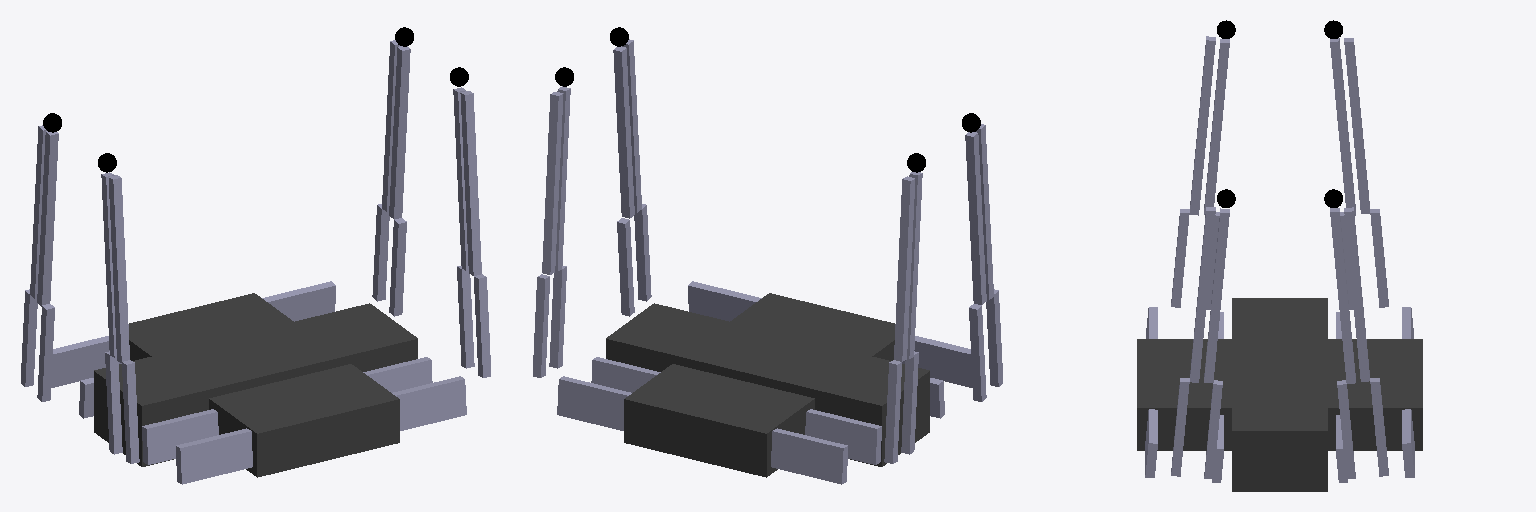
--- Render facts (derived) ---
Views: 3 orthographic renders of the robot side by side, from view 1: azimuth 30°, elevation 25°; view 2: azimuth 150°, elevation 25°; view 3: azimuth 270°, elevation 25°.
Model quadruped with 31 links and 30 joints (16 continuous, 14 fixed), rooted at base_chassis_link, posed all joints at 0.
Links seen in each view (by area): view 1: base_chassis_link, chassis_right, chassis_left, lower_leg_back_rightR_link, lower_leg_front_rightR_link, lower_leg_back_leftR_link, lower_leg_front_leftR_link, upper_leg_back_rightR_link, upper_leg_front_rightR_link, lower_leg_back_rightL_link, upper_leg_front_rightL_link, lower_leg_front_rightL_link (+7 smaller); view 2: base_chassis_link, chassis_left, chassis_right, lower_leg_back_leftL_link, lower_leg_front_leftL_link, lower_leg_back_rightL_link, lower_leg_front_rightL_link, upper_leg_back_leftL_link, lower_leg_back_leftR_link, upper_leg_front_leftL_link, lower_leg_front_leftR_link, lower_leg_back_rightR_link (+7 smaller); view 3: base_chassis_link, lower_leg_back_rightR_link, lower_leg_front_leftR_link, lower_leg_back_leftL_link, lower_leg_front_rightR_link, lower_leg_front_rightL_link, lower_leg_front_leftL_link, chassis_right, chassis_left, lower_leg_back_leftR_link, lower_leg_back_rightL_link, upper_leg_back_rightR_link (+5 smaller).
Link boxes in pixels (x1,y1,x2,y2): base_chassis_link: [94, 293, 417, 477]; chassis_right: [142, 357, 466, 484]; chassis_left: [51, 281, 335, 418]; lower_leg_back_rightR_link: [109, 175, 129, 362]; lower_leg_front_rightR_link: [460, 91, 481, 275]; lower_leg_back_leftR_link: [37, 131, 58, 306]; lower_leg_front_leftR_link: [389, 46, 410, 219]; upper_leg_back_rightR_link: [122, 360, 139, 463]; upper_leg_front_rightR_link: [474, 274, 490, 377]; lower_leg_back_rightL_link: [101, 172, 116, 357]; upper_leg_front_rightL_link: [457, 266, 474, 368]; lower_leg_front_rightL_link: [453, 87, 468, 270]; base_chassis_link: [606, 293, 929, 477]; chassis_left: [557, 357, 881, 484]; chassis_right: [688, 281, 972, 418]; lower_leg_back_leftL_link: [894, 176, 914, 361]; lower_leg_front_leftL_link: [542, 92, 563, 274]; lower_leg_back_rightL_link: [965, 132, 986, 304]; lower_leg_front_rightL_link: [613, 46, 634, 218]; upper_leg_back_leftL_link: [884, 360, 901, 463]; lower_leg_back_leftR_link: [907, 172, 922, 358]; upper_leg_front_leftL_link: [533, 274, 549, 377]; lower_leg_front_leftR_link: [555, 86, 570, 271]; lower_leg_back_rightR_link: [976, 124, 993, 299]; base_chassis_link: [1137, 298, 1422, 491]; lower_leg_back_rightR_link: [1190, 36, 1215, 215]; lower_leg_front_leftR_link: [1330, 208, 1355, 383]; lower_leg_back_leftL_link: [1344, 38, 1369, 213]; lower_leg_front_rightR_link: [1190, 207, 1215, 382]; lower_leg_front_rightL_link: [1204, 208, 1229, 382]; lower_leg_front_leftL_link: [1344, 207, 1369, 381]; chassis_right: [1145, 307, 1223, 482]; chassis_left: [1336, 307, 1414, 482]; lower_leg_back_leftR_link: [1330, 38, 1355, 215]; lower_leg_back_rightL_link: [1204, 39, 1229, 214]; upper_leg_back_rightR_link: [1171, 209, 1189, 307].
Bounding box of the posed robot: 0.44 × 0.3 × 0.3704 m (x, y, z).
Meshes: 1 distinct files referenced, 0 mesh visuals loaded (none loaded); not drawn: 8 (reference not matched to a file when rendering).

robot.urdf — quadruped:
<?xml version="0.0" ?>
<!-- ======================================================================= -->
<!--LICENSE:                                                                 -->
<!--Copyright (c) 2017, Erwin Coumans                                        -->
<!--Google Inc.                                                              -->
<!--All rights reserved.                                                     -->
<!--                                                                         -->
<!--Redistribution and use in source and binary forms, with or without       -->
<!--modification, are permitted provided that the following conditions are   -->
<!--met:                                                                     -->
<!--                                                                         -->
<!--1. Redistributions or derived work must retain this copyright notice,    -->
<!--   this list of conditions and the following disclaimer.                 -->
<!--                                                                         -->
<!--2. Redistributions in binary form must reproduce the above copyright     -->
<!--   notice, this list of conditions and the following disclaimer in the   -->
<!--   documentation and/or other materials provided with the distribution.  -->
<!--                                                                         -->
<!--THIS SOFTWARE IS PROVIDED BY THE COPYRIGHT HOLDERS AND CONTRIBUTORS "AS  -->
<!--IS" AND ANY EXPRESS OR IMPLIED WARRANTIES, INCLUDING, BUT NOT LIMITED TO,-->
<!--THE IMPLIED WARRANTIES OF MERCHANTABILITY AND FITNESS FOR A PARTICULAR   -->
<!--PURPOSE ARE DISCLAIMED. IN NO EVENT SHALL THE COPYRIGHT HOLDER OR        -->
<!--CONTRIBUTORS BE LIABLE FOR ANY DIRECT, INDIRECT, INCIDENTAL, SPECIAL,    -->
<!--EXEMPLARY, OR CONSEQUENTIAL DAMAGES (INCLUDING, BUT NOT LIMITED TO,      -->
<!--PROCUREMENT OF SUBSTITUTE GOODS OR SERVICES; LOSS OF USE, DATA, OR       -->
<!--PROFITS; OR BUSINESS INTERRUPTION) HOWEVER CAUSED AND ON ANY THEORY OF   -->
<!--LIABILITY, WHETHER IN CONTRACT, STRICT LIABILITY, OR TORT (INCLUDING     -->
<!--NEGLIGENCE OR OTHERWISE) ARISING IN ANY WAY OUT OF THE USE OF THIS       -->
<!--SOFTWARE, EVEN IF ADVISED OF THE POSSIBILITY OF SUCH DAMAGE.             -->

<robot name="quadruped">
  <link name="base_chassis_link">
    <visual>
      <geometry>
        <box size=".33 0.10 .07"/>
      </geometry>
      <material name="black">
        <color rgba="0.3 0.3 0.3 1"/>
      </material>
    </visual>
    <visual>
			<origin rpy="0 0 0" xyz="0 0.10 0"/>
      <geometry>
        <box size=".17 0.10 .05"/>
      </geometry>
      <material name="black">
        <color rgba="0.3 0.3 0.3 1"/>
      </material>
    </visual>
		<visual>
			<origin rpy="0 0 0" xyz="0 -0.10 0"/>
      <geometry>
        <box size=".17 0.10 .05"/>
      </geometry>
      <material name="black">
        <color rgba="0.3 0.3 0.3 1"/>
      </material>
    </visual>

    <collision>
      <geometry>
       <box size=".33 0.10 .07"/>
      </geometry>
    </collision>
    <collision>
			<origin rpy="0 0 0" xyz="0 0.10 0"/>
      <geometry>
       <box size=".17 0.10 .05"/>
      </geometry>
    </collision>
    <collision>
			<origin rpy="0 0 0" xyz="0 -0.10 0"/>
      <geometry>
       <box size=".17 0.10 .05"/>
      </geometry>
    </collision>

    <inertial>
      <mass value="3"/>
      <inertia ixx="1.0" ixy="0.0" ixz="0.0" iyy="1.0" iyz="0.0" izz="1.0"/>
    </inertial>
  </link>

  <link name="chassis_right">
    <visual>
			<origin rpy="0 0 0" xyz="0 0.035 0"/>
      <geometry>
       <box size=".34 0.01 .04"/>
      </geometry>
			<material name="grey">
        <color rgba="0.65 0.65 0.75 1"/>
      </material>    </visual>
    <visual>
			<origin rpy="0 0 0" xyz="0 -0.035 0"/>
      <geometry>
       <box size=".34 0.01 .04"/>
      </geometry>
			<material name="grey">
        <color rgba="0.65 0.65 0.75 1"/>
      </material>    </visual>
    <collision>
			<origin rpy="0 0 0" xyz="0 0.035 0"/>
      <geometry>
       <box size=".34 0.01 .04"/>
      </geometry>
    </collision>
    <collision>
			<origin rpy="0 0 0" xyz="0 -0.035 0"/>
      <geometry>
       <box size=".34 0.01 .04"/>
      </geometry>
    </collision>
    <inertial>
      <mass value=".1"/>
      <inertia ixx="1.0" ixy="0.0" ixz="0.0" iyy="1.0" iyz="0.0" izz="1.0"/>
    </inertial>
  </link>

  <joint name="chassis_right_center" type="fixed">
    <axis xyz="0 0 1"/>
    <parent link="base_chassis_link"/>
    <child link="chassis_right"/>
    <origin rpy="-0.0872665 0 0" xyz="0.0 -0.10 0.0"/>
    <limit effort="100" velocity="100"/>
    <joint_properties damping="0.0" friction="0.0"/>
  </joint>

  <link name="chassis_left">
    <visual>
			<origin rpy="0 0 0" xyz="0 0.035 0"/>
      <geometry>
       <box size=".34 0.01 .04"/>
      </geometry>
			<material name="grey">
        <color rgba="0.65 0.65 0.75 1"/>
      </material>    </visual>
    <visual>
			<origin rpy="0 0 0" xyz="0 -0.035 0"/>
      <geometry>
       <box size=".34 0.01 .04"/>
      </geometry>
			<material name="grey">
        <color rgba="0.65 0.65 0.75 1"/>
      </material>    </visual>
    <collision>
			<origin rpy="0 0 0" xyz="0 0.035 0"/>
      <geometry>
       <box size=".34 0.01 .04"/>
      </geometry>
    </collision>
    <collision>
			<origin rpy="0 0 0" xyz="0 -0.035 0"/>
      <geometry>
       <box size=".34 0.01 .04"/>
      </geometry>
    </collision>
    <inertial>
      <mass value=".1"/>
      <inertia ixx="1.0" ixy="0.0" ixz="0.0" iyy="1.0" iyz="0.0" izz="1.0"/>
    </inertial>
  </link>

  <joint name="chassis_left_center" type="fixed">
    <axis xyz="0 0 1"/>
    <parent link="base_chassis_link"/>
    <child link="chassis_left"/>
    <origin rpy="0.0872665 0 0" xyz="0.0 0.10 0.0"/>
    <limit effort="100" velocity="100"/>
    <joint_properties damping="0.0" friction="0.0"/>
  </joint>

  
  
  <link name="motor_front_rightR_link">
    <visual>
      <geometry>
        <mesh filename="tmotor3.obj" scale="1 1 1"/>
      </geometry>
      <material name="white">
        <color rgba="1 1 1 1"/>
      </material>
    </visual>
    <collision>
      <geometry>
        <cylinder length="0.026" radius="0.0434"/>
      </geometry>
    </collision>
    <inertial>
      <mass value="0.25"/>
      <inertia ixx="1.0" ixy="0.0" ixz="0.0" iyy="1.0" iyz="0.0" izz="1.0"/>
    </inertial>
  </link>
  <joint name="motor_front_rightR_joint" type="continuous">
    <axis xyz="0 0 1"/>
    <parent link="chassis_right"/>
    <child link="motor_front_rightR_link"/>
    <origin rpy="1.57075 0 0" xyz="0.21 -0.025 0"/>
    <limit effort="100" velocity="100"/>
    <joint_properties damping="0.0" friction="0.0"/>
  </joint>


	<link name="motor_front_rightL_link">
    <visual>
      <geometry>
        <mesh filename="tmotor3.obj" scale="1 1 1"/>
      </geometry>
      <material name="white">
        <color rgba="1 1 1 1"/>
      </material>
    </visual>
    <collision>
      <geometry>
        <cylinder length="0.026" radius="0.0434"/>
      </geometry>
    </collision>
    <inertial>
      <mass value="0.25"/>
      <inertia ixx="1.0" ixy="0.0" ixz="0.0" iyy="1.0" iyz="0.0" izz="1.0"/>
    </inertial>
  </link>
  <joint name="motor_front_rightL_joint" type="continuous">
    <axis xyz="0 0 1"/>
    <parent link="chassis_right"/>
    <child link="motor_front_rightL_link"/>
    <origin rpy="1.57075 0 3.141592" xyz="0.21 0.04 0"/>
    <limit effort="100" velocity="100"/>
    <joint_properties damping="0.0" friction="0.0"/>
  </joint>
  
  
  <link name="motor_front_leftL_link">
    <visual>
      <geometry>
        <mesh filename="tmotor3.obj" scale="1 1 1"/>
      </geometry>
      <material name="white">
        <color rgba="1 1 1 1"/>
      </material>
    </visual>
    <collision>
      <geometry>
        <cylinder length="0.026" radius="0.0434"/>
      </geometry>
    </collision>
    <inertial>
      <mass value="0.25"/>
      <inertia ixx="1.0" ixy="0.0" ixz="0.0" iyy="1.0" iyz="0.0" izz="1.0"/>
    </inertial>
  </link>
  <joint name="motor_front_leftL_joint" type="continuous">
    <axis xyz="0 0 1"/>
    <parent link="chassis_left"/>
    <child link="motor_front_leftL_link"/>
    <origin rpy="1.57075 0 3.141592" xyz="0.21 0.025 0"/>
    <limit effort="100" velocity="100"/>
    <joint_properties damping="0.0" friction="0.0"/>
  </joint>


	<link name="motor_front_leftR_link">
    <visual>
      <geometry>
        <mesh filename="tmotor3.obj" scale="1 1 1"/>
      </geometry>
      <material name="white">
        <color rgba="1 1 1 1"/>
      </material>
    </visual>
    <collision>
      <geometry>
        <cylinder length="0.026" radius="0.0434"/>
      </geometry>
    </collision>
    <inertial>
      <mass value="0.25"/>
      <inertia ixx="1.0" ixy="0.0" ixz="0.0" iyy="1.0" iyz="0.0" izz="1.0"/>
    </inertial>
  </link>
  <joint name="motor_front_leftR_joint" type="continuous">
    <axis xyz="0 0 1"/>
    <parent link="chassis_left"/>
    <child link="motor_front_leftR_link"/>
    <origin rpy="1.57075 0 0" xyz="0.21 -0.04 0"/>
    <limit effort="100" velocity="100"/>
    <joint_properties damping="0.0" friction="0.0"/>
  </joint>
  
  
  <link name="motor_back_rightR_link">
    <visual>
      <geometry>
        <mesh filename="tmotor3.obj" scale="1 1 1"/>
      </geometry>
      <material name="white">
        <color rgba="1 1 1 1"/>
      </material>
    </visual>
    <collision>
      <geometry>
        <cylinder length="0.026" radius="0.0434"/>
      </geometry>
    </collision>
    <inertial>
      <mass value="0.25"/>
      <inertia ixx="1.0" ixy="0.0" ixz="0.0" iyy="1.0" iyz="0.0" izz="1.0"/>
    </inertial>
  </link>
  <joint name="motor_back_rightR_joint" type="continuous">
    <axis xyz="0 0 1"/>
    <parent link="chassis_right"/>
    <child link="motor_back_rightR_link"/>
    <origin rpy="1.57075 0 0" xyz="-0.21 -0.025 0"/>
    <limit effort="100" velocity="100"/>
    <joint_properties damping="0.0" friction="0.0"/>
  </joint>


	<link name="motor_back_rightL_link">
    <visual>
      <geometry>
        <mesh filename="tmotor3.obj" scale="1 1 1"/>
      </geometry>
      <material name="white">
        <color rgba="1 1 1 1"/>
      </material>
    </visual>
    <collision>
      <geometry>
        <cylinder length="0.026" radius="0.0434"/>
      </geometry>
    </collision>
    <inertial>
      <mass value="0.25"/>
      <inertia ixx="1.0" ixy="0.0" ixz="0.0" iyy="1.0" iyz="0.0" izz="1.0"/>
    </inertial>
  </link>
  <joint name="motor_back_rightL_joint" type="continuous">
    <axis xyz="0 0 1"/>
    <parent link="chassis_right"/>
    <child link="motor_back_rightL_link"/>
    <origin rpy="1.57075 0 3.141592" xyz="-0.21 0.04 0"/>
    <limit effort="100" velocity="100"/>
    <joint_properties damping="0.0" friction="0.0"/>
  </joint>
  
  
  <link name="motor_back_leftL_link">
    <visual>
      <geometry>
        <mesh filename="tmotor3.obj" scale="1 1 1"/>
      </geometry>
      <material name="white">
        <color rgba="1 1 1 1"/>
      </material>
    </visual>
    <collision>
      <geometry>
        <cylinder length="0.026" radius="0.0434"/>
      </geometry>
    </collision>
    <inertial>
      <mass value="0.25"/>
      <inertia ixx="1.0" ixy="0.0" ixz="0.0" iyy="1.0" iyz="0.0" izz="1.0"/>
    </inertial>
  </link>
  <joint name="motor_back_leftL_joint" type="continuous">
    <axis xyz="0 0 1"/>
    <parent link="chassis_left"/>
    <child link="motor_back_leftL_link"/>
    <origin rpy="1.57075 0 3.141592" xyz="-0.21 0.025 0"/>
    <limit effort="100" velocity="100"/>
    <joint_properties damping="0.0" friction="0.0"/>
  </joint>


	<link name="motor_back_leftR_link">
    <visual>
      <geometry>
        <mesh filename="tmotor3.obj" scale="1 1 1"/>
      </geometry>
      <material name="white">
        <color rgba="1 1 1 1"/>
      </material>
    </visual>
    <collision>
      <geometry>
        <cylinder length="0.026" radius="0.0434"/>
      </geometry>
    </collision>
    <inertial>
      <mass value="0.25"/>
      <inertia ixx="1.0" ixy="0.0" ixz="0.0" iyy="1.0" iyz="0.0" izz="1.0"/>
    </inertial>
  </link>
  <joint name="motor_back_leftR_joint" type="continuous">
    <axis xyz="0 0 1"/>
    <parent link="chassis_left"/>
    <child link="motor_back_leftR_link"/>
    <origin rpy="1.57075 0 0" xyz="-0.21 -0.04 0"/>
    <limit effort="100" velocity="100"/>
    <joint_properties damping="0.0" friction="0.0"/>
  </joint>

	<link name="upper_leg_front_rightR_link">
    <visual>
      <geometry>
        <box size=".01 0.01 .11"/>
      </geometry>
      <material name="grey">
        <color rgba="0.65 0.65 0.75 1"/>
      </material>
    </visual>
    <collision>
      <geometry>
        <box size=".01 0.01 .11"/>
      </geometry>
    </collision>
    <inertial>
      <mass value="0.05"/>
      <inertia ixx="1.0" ixy="0.0" ixz="0.0" iyy="1.0" iyz="0.0" izz="1.0"/>
    </inertial>
  </link>
  <joint name="hip_front_rightR_link" type="fixed">
    <axis xyz="0 0 1"/>
    <parent link="motor_front_rightR_link"/>
    <child link="upper_leg_front_rightR_link"/>
    <origin rpy="-1.57075 0 0" xyz="0.0 0.06 -0.015"/>
    <limit effort="100" velocity="100"/>
    <joint_properties damping="0.0" friction="0.0"/>
  </joint>

	<link name="lower_leg_front_rightR_link">
	<contact>
		<stiffness value="10000"/>
		<damping value="10"/>
		<lateral_friction value="1"/>
  </contact>

    <visual>
    	<origin rpy="0.0 0 0" xyz="0 0 .1"/>
      <geometry>
        <box size=".01 0.01 .2"/>
      </geometry>
      <material name="grey">
        <color rgba="0.65 0.65 0.75 1"/>
      </material>
    </visual>
    <collision>
    	<origin rpy="0.0 0 0" xyz="0 0 .1"/>
      <geometry>
        <box size=".01 0.01 .2"/>
      </geometry>
    </collision>
    <inertial>
      <mass value="0.05"/>
      <inertia ixx="1.0" ixy="0.0" ixz="0.0" iyy="1.0" iyz="0.0" izz="1.0"/>
    </inertial>
  </link>
  <joint name="knee_front_rightR_link" type="continuous">
    <axis xyz="0 1 0"/>
    <parent link="upper_leg_front_rightR_link"/>
    <child link="lower_leg_front_rightR_link"/>
    <origin rpy="0 0 0" xyz="0.0 0.01 .055"/>
    <limit effort="100" velocity="100"/>
    <joint_properties damping="0.0" friction="0.0"/>
  </joint>

    
  <link name="upper_leg_front_rightL_link">
    <visual>
      <geometry>
        <box size=".01 0.01 .11"/>
      </geometry>
      <material name="grey">
        <color rgba="0.65 0.65 0.75 1"/>
      </material>
    </visual>
    <collision>
      <geometry>
        <box size=".01 0.01 .11"/>
      </geometry>
    </collision>
    <inertial>
      <mass value="0.05"/>
      <inertia ixx="1.0" ixy="0.0" ixz="0.0" iyy="1.0" iyz="0.0" izz="1.0"/>
    </inertial>
  </link>
  <joint name="motor_front_rightL_link" type="fixed">
    <axis xyz="0 0 1"/>
    <parent link="motor_front_rightL_link"/>
    <child link="upper_leg_front_rightL_link"/>
    <origin rpy="-1.57075 0 0" xyz="0.0 0.06 -0.015"/>
    <limit effort="100" velocity="100"/>
    <joint_properties damping="0.0" friction="0.0"/>
  </joint>

  

  
  <link name="lower_leg_front_rightL_link">
	<contact>
		<stiffness value="10000"/>
		<damping value="10"/>
		<lateral_friction value="1"/>
  </contact>

    <visual>
    	<origin rpy="0.0 0 0" xyz="0 0 .1"/>
      <geometry>
        <box size=".01 0.01 .198"/>
      </geometry>
      <material name="grey">
        <color rgba="0.65 0.65 0.75 1"/>
      </material>
    </visual>
    <collision>
    	<origin rpy="0.0 0 0" xyz="0 0 .1"/>
      <geometry>
        <box size=".01 0.01 .198"/>
      </geometry>
    </collision>
    <inertial>
      <mass value="0.05"/>
      <inertia ixx="1.0" ixy="0.0" ixz="0.0" iyy="1.0" iyz="0.0" izz="1.0"/>
    </inertial>
  </link>
  <joint name="knee_front_rightL_link" type="continuous">
    <axis xyz="0 1 0"/>
    <parent link="upper_leg_front_rightL_link"/>
    <child link="lower_leg_front_rightL_link"/>
    <origin rpy="0 0 0" xyz="0.0 0.01 .055"/>
    <limit effort="100" velocity="100"/>
    <joint_properties damping="0.0" friction="0.0"/>
  </joint>


	<link name="upper_leg_front_leftR_link">
    <visual>
      <geometry>
        <box size=".01 0.01 .11"/>
      </geometry>
      <material name="grey">
        <color rgba="0.65 0.65 0.75 1"/>
      </material>
    </visual>
    <collision>
      <geometry>
        <box size=".01 0.01 .11"/>
      </geometry>
    </collision>
    <inertial>
      <mass value="0.05"/>
      <inertia ixx="1.0" ixy="0.0" ixz="0.0" iyy="1.0" iyz="0.0" izz="1.0"/>
    </inertial>
  </link>
  <joint name="hip_front_leftR_link" type="fixed">
    <axis xyz="0 0 1"/>
    <parent link="motor_front_leftR_link"/>
    <child link="upper_leg_front_leftR_link"/>
    <origin rpy="-1.57075 0 0" xyz="0.0 0.06 -0.015"/>
    <limit effort="100" velocity="100"/>
    <joint_properties damping="0.0" friction="0.0"/>
  </joint>


	<link name="lower_leg_front_leftR_link">
	<contact>
		<stiffness value="10000"/>
		<damping value="10"/>
		<lateral_friction value="1"/>
  </contact>

    <visual>
    	<origin rpy="0.0 0.0 0" xyz="0 0 .1"/>
      <geometry>
        <box size=".01 0.01 .2"/>
      </geometry>
      <material name="grey">
        <color rgba="0.65 0.65 0.75 1"/>
      </material>
    </visual>
    <collision>
    	<origin rpy="0.0 0.0 0" xyz="0 0 .1"/>
      <geometry>
        <box size=".01 0.01 .2"/>
      </geometry>
    </collision>
    <inertial>
      <mass value="0.05"/>
      <inertia ixx="1.0" ixy="0.0" ixz="0.0" iyy="1.0" iyz="0.0" izz="1.0"/>
    </inertial>
  </link>
  <joint name="knee_front_leftR_link" type="continuous">
    <axis xyz="0 1 0"/>
    <parent link="upper_leg_front_leftR_link"/>
    <child link="lower_leg_front_leftR_link"/>
    <origin rpy="0 0 0" xyz="0.0 0.01 .055"/>
    <limit effort="100" velocity="100"/>
    <joint_properties damping="0.0" friction="0.0"/>
  </joint>



   <link name="upper_leg_front_leftL_link">
    <visual>
      <geometry>
        <box size=".01 0.01 .11"/>
      </geometry>
      <material name="grey">
        <color rgba="0.65 0.65 0.75 1"/>
      </material>
    </visual>
    <collision>
      <geometry>
        <box size=".01 0.01 .11"/>
      </geometry>
    </collision>
    <inertial>
      <mass value="0.05"/>
      <inertia ixx="1.0" ixy="0.0" ixz="0.0" iyy="1.0" iyz="0.0" izz="1.0"/>
    </inertial>
  </link>
  <joint name="motor_front_leftL_link" type="fixed">
    <axis xyz="0 0 1"/>
    <parent link="motor_front_leftL_link"/>
    <child link="upper_leg_front_leftL_link"/>
    <origin rpy="-1.57075 0 0" xyz="0.0 0.06 -0.015"/>
    <limit effort="100" velocity="100"/>
    <joint_properties damping="0.0" friction="0.0"/>
  </joint>


  <link name="lower_leg_front_leftL_link">
	<contact>
		<stiffness value="10000"/>
		<damping value="10"/>
		<lateral_friction value="1"/>
  </contact>

    <visual>
    	<origin rpy="0.0 0.0 0" xyz="0 0 .1"/>
      <geometry>
        <box size=".01 0.01 .198"/>
      </geometry>
      <material name="grey">
        <color rgba="0.65 0.65 0.75 1"/>
      </material>
    </visual>
    <collision>
    	<origin rpy="0.0 0.0 0" xyz="0 0 .1"/>
      <geometry>
        <box size=".01 0.01 .198"/>
      </geometry>
    </collision>
    <inertial>
      <mass value="0.05"/>
      <inertia ixx="1.0" ixy="0.0" ixz="0.0" iyy="1.0" iyz="0.0" izz="1.0"/>
    </inertial>
  </link>
  <joint name="knee_front_leftL_link" type="continuous">
    <axis xyz="0 1 0"/>
    <parent link="upper_leg_front_leftL_link"/>
    <child link="lower_leg_front_leftL_link"/>
    <origin rpy="0 0 0" xyz="0.0 0.01 .055"/>
    <limit effort="100" velocity="100"/>
    <joint_properties damping="0.0" friction="0.0"/>
  </joint>
  
	<link name="upper_leg_back_rightR_link">
    <visual>
      <geometry>
        <box size=".01 0.01 .11"/>
      </geometry>
      <material name="grey">
        <color rgba="0.65 0.65 0.75 1"/>
      </material>
    </visual>
    <collision>
      <geometry>
        <box size=".01 0.01 .11"/>
      </geometry>
    </collision>
    <inertial>
      <mass value="0.05"/>
      <inertia ixx="1.0" ixy="0.0" ixz="0.0" iyy="1.0" iyz="0.0" izz="1.0"/>
    </inertial>
  </link>
  <joint name="hip_rightR_link" type="fixed">
    <axis xyz="0 0 1"/>
    <parent link="motor_back_rightR_link"/>
    <child link="upper_leg_back_rightR_link"/>
    <origin rpy="-1.57075 0 0" xyz="0.0 0.06 -0.015"/>
    <limit effort="100" velocity="100"/>
    <joint_properties damping="0.0" friction="0.0"/>
  </joint>

	<link name="lower_leg_back_rightR_link">
	<contact>
		<stiffness value="10000"/>
		<damping value="10"/>
		<lateral_friction value="1"/>
  </contact>

    <visual>
    	<origin rpy="0.0 0 0" xyz="0 0 .1"/>
      <geometry>
        <box size=".01 0.01 .2032"/>
      </geometry>
      <material name="grey">
        <color rgba="0.65 0.65 0.75 1"/>
      </material>
    </visual>
    <collision>
    	<origin rpy="0.0 0 0" xyz="0 0 .1"/>
      <geometry>
        <box size=".01 0.01 .2032"/>
      </geometry>
    </collision>
    <inertial>
      <mass value="0.05"/>
      <inertia ixx="1.0" ixy="0.0" ixz="0.0" iyy="1.0" iyz="0.0" izz="1.0"/>
    </inertial>
  </link>
  <joint name="knee_back_rightR_link" type="continuous">
    <axis xyz="0 1 0"/>
    <parent link="upper_leg_back_rightR_link"/>
    <child link="lower_leg_back_rightR_link"/>
    <origin rpy="0 0 0" xyz="0.0 0.01 .055"/>
    <limit effort="100" velocity="100"/>
    <joint_properties damping="0.0" friction="0.0"/>
  </joint>

    
  <link name="upper_leg_back_rightL_link">
    <visual>
      <geometry>
        <box size=".01 0.01 .11"/>
      </geometry>
      <material name="grey">
        <color rgba="0.65 0.65 0.75 1"/>
      </material>
    </visual>
    <collision>
      <geometry>
        <box size=".01 0.01 .11"/>
      </geometry>
    </collision>
    <inertial>
      <mass value="0.05"/>
      <inertia ixx="1.0" ixy="0.0" ixz="0.0" iyy="1.0" iyz="0.0" izz="1.0"/>
    </inertial>
  </link>
  <joint name="motor_back_rightL_link" type="fixed">
    <axis xyz="0 0 1"/>
    <parent link="motor_back_rightL_link"/>
    <child link="upper_leg_back_rightL_link"/>
    <origin rpy="-1.57075 0 0" xyz="0.0 0.06 -0.015"/>
    <limit effort="100" velocity="100"/>
    <joint_properties damping="0.0" friction="0.0"/>
  </joint>

  

  
  <link name="lower_leg_back_rightL_link">
	<contact>
		<stiffness value="10000"/>
		<damping value="10"/>
		<lateral_friction value="1"/>
  </contact>
  
    <visual>
    	<origin rpy="0.0 0 0" xyz="0 0 .1"/>
      <geometry>
        <box size=".01 0.01 .2"/>
      </geometry>
      <material name="grey">
        <color rgba="0.65 0.65 0.75 1"/>
      </material>
    </visual>
    <collision>
    	<origin rpy="0.0 0 0" xyz="0 0 .1"/>
      <geometry>
        <box size=".01 0.01 .2"/>
      </geometry>
    </collision>
    <inertial>
      <mass value="0.05"/>
      <inertia ixx="1.0" ixy="0.0" ixz="0.0" iyy="1.0" iyz="0.0" izz="1.0"/>
    </inertial>
  </link>
  <joint name="knee_back_rightL_link" type="continuous">
    <axis xyz="0 1 0"/>
    <parent link="upper_leg_back_rightL_link"/>
    <child link="lower_leg_back_rightL_link"/>
    <origin rpy="0 0 0" xyz="0.0 0.01 .055"/>
    <limit effort="100" velocity="100"/>
    <joint_properties damping="0.0" friction="0.0"/>
  </joint>



	<link name="upper_leg_back_leftR_link">
    <visual>
      <geometry>
        <box size=".01 0.01 .11"/>
      </geometry>
      <material name="grey">
        <color rgba="0.65 0.65 0.75 1"/>
      </material>
    </visual>
    <collision>
      <geometry>
        <box size=".01 0.01 .11"/>
      </geometry>
    </collision>
    <inertial>
      <mass value="0.05"/>
      <inertia ixx="1.0" ixy="0.0" ixz="0.0" iyy="1.0" iyz="0.0" izz="1.0"/>
    </inertial>
  </link>
  <joint name="hip_leftR_link" type="fixed">
    <axis xyz="0 0 1"/>
    <parent link="motor_back_leftR_link"/>
    <child link="upper_leg_back_leftR_link"/>
    <origin rpy="-1.57075 0 0" xyz="0.0 0.06 -0.015"/>
    <limit effort="100" velocity="100"/>
    <joint_properties damping="0.0" friction="0.0"/>
  </joint>

<link name="lower_leg_back_leftR_link">
	<contact>
		<stiffness value="10000"/>
		<damping value="10"/>
		<lateral_friction value="1"/>
  </contact>

    <visual>
    	<origin rpy="0.0 0 0" xyz="0 0 .1"/>
      <geometry>
        <box size=".01 0.01 .2032"/>
      </geometry>
      <material name="grey">
        <color rgba="0.65 0.65 0.75 1"/>
      </material>
    </visual>
    <collision>
    	<origin rpy="0.0 0 0" xyz="0 0 .1"/>
      <geometry>
        <box size=".01 0.01 .2032"/>
      </geometry>
    </collision>
    <inertial>
      <mass value="0.05"/>
      <inertia ixx="1.0" ixy="0.0" ixz="0.0" iyy="1.0" iyz="0.0" izz="1.0"/>
    </inertial>
  </link>
  <joint name="knee_back_leftR_link" type="continuous">
    <axis xyz="0 1 0"/>
    <parent link="upper_leg_back_leftR_link"/>
    <child link="lower_leg_back_leftR_link"/>
    <origin rpy="0 0 0" xyz="0.0 0.01 .055"/>
    <limit effort="100" velocity="100"/>
    <joint_properties damping="0.0" friction="0.0"/>
  </joint>

   <link name="upper_leg_back_leftL_link">
    <visual>
      <geometry>
        <box size=".01 0.01 .11"/>
      </geometry>
      <material name="grey">
        <color rgba="0.65 0.65 0.75 1"/>
      </material>
    </visual>
    <collision>
      <geometry>
        <box size=".01 0.01 .11"/>
      </geometry>
    </collision>
    <inertial>
      <mass value="0.05"/>
      <inertia ixx="1.0" ixy="0.0" ixz="0.0" iyy="1.0" iyz="0.0" izz="1.0"/>
    </inertial>
  </link>
  <joint name="motor_back_leftL_link" type="fixed">
    <axis xyz="0 0 1"/>
    <parent link="motor_back_leftL_link"/>
    <child link="upper_leg_back_leftL_link"/>
    <origin rpy="-1.57075 0 0" xyz="0.0 0.06 -0.015"/>
    <limit effort="100" velocity="100"/>
    <joint_properties damping="0.0" friction="0.0"/>
  </joint>

 
  <link name="lower_leg_back_leftL_link">
	<contact>
		<stiffness value="10000"/>
		<damping value="10"/>
		<lateral_friction value="1"/>
  </contact>

    <visual>
    	<origin rpy="0.0 0 0" xyz="0 0 .1"/>
      <geometry>
        <box size=".01 0.01 .2"/>
      </geometry>
      <material name="grey">
        <color rgba="0.65 0.65 0.75 1"/>
      </material>
    </visual>
    <collision>
    	<origin rpy="0.0 0 0" xyz="0 0 .1"/>
      <geometry>
        <box size=".01 0.01 .2"/>
      </geometry>
    </collision>
    <inertial>
      <mass value="0.05"/>
      <inertia ixx="1.0" ixy="0.0" ixz="0.0" iyy="1.0" iyz="0.0" izz="1.0"/>
    </inertial>
  </link>
  <joint name="knee_back_leftL_link" type="continuous">
    <axis xyz="0 1 0"/>
    <parent link="upper_leg_back_leftL_link"/>
    <child link="lower_leg_back_leftL_link"/>
    <origin rpy="0 0 0" xyz="0.0 0.01 .055"/>
    <limit effort="100" velocity="100"/>
    <joint_properties damping="0.0" friction="0.0"/>
  </joint>

  <!-- Lower contacts -->
  <joint name="contact_back_leftR" type="fixed">
    <axis xyz="0 0 0"/>
    <parent link="lower_leg_back_leftR_link"/>
    <child link="contact_back_leftR_link"/>
    <origin rpy="0 0 0" xyz="0.0 0.0 0.213"/>
  </joint>
  <link name="contact_back_leftR_link">
    <contact>
        <stiffness value="10000"/>
        <damping value="10"/>
        <lateral_friction value="1"/>
    </contact>
    <visual>
      <origin rpy="0.0 0 0" xyz="0 0 0"/>
      <geometry>
        <sphere radius="0.01"/>
      </geometry>
      <material name="red">
        <color rgba="0.0 0.0 0.0 1"/>
      </material>
    </visual>
    <collision>
      <origin rpy="0.0 0 0" xyz="0 0 0"/>
      <geometry>
        <sphere radius="0.01"/>
      </geometry>
    </collision>
    <inertial>
      <mass value="0.01"/>
      <inertia ixx="0.0001" ixy="0.0" ixz="0.0" iyy="0.00001" iyz="0.0" izz="0.00001"/>
    </inertial>
  </link>

  <joint name="contact_back_rightL" type="fixed">
    <axis xyz="0 0 0"/>
    <parent link="lower_leg_back_rightL_link"/>
    <child link="contact_back_rightL_link"/>
    <origin rpy="0 0 0" xyz="0.0 0.0 0.213"/>
  </joint>
  <link name="contact_back_rightL_link">
    <contact>
        <stiffness value="10000"/>
        <damping value="10"/>
        <lateral_friction value="1"/>
    </contact>
    <visual>
      <origin rpy="0.0 0 0" xyz="0 0 0"/>
      <geometry>
        <sphere radius="0.01"/>
      </geometry>
      <material name="red">
        <color rgba="0.0 0.0 0.0 1"/>
      </material>
    </visual>
    <collision>
      <origin rpy="0.0 0 0" xyz="0 0 0"/>
      <geometry>
        <sphere radius="0.01"/>
      </geometry>
    </collision>
    <inertial>
      <mass value="0.01"/>
      <inertia ixx="0.0001" ixy="0.0" ixz="0.0" iyy="0.00001" iyz="0.0" izz="0.00001"/>
    </inertial>
  </link>

  <joint name="contact_front_leftR" type="fixed">
    <axis xyz="0 0 0"/>
    <parent link="lower_leg_front_leftR_link"/>
    <child link="contact_front_leftR_link"/>
    <origin rpy="0 0 0" xyz="0.0 0.0 0.213"/>
  </joint>
  <link name="contact_front_leftR_link">
    <contact>
        <stiffness value="10000"/>
        <damping value="10"/>
        <lateral_friction value="1"/>
    </contact>
    <visual>
      <origin rpy="0.0 0 0" xyz="0 0 0"/>
      <geometry>
        <sphere radius="0.01"/>
      </geometry>
      <material name="red">
        <color rgba="0.0 0.0 0.0 1"/>
      </material>
    </visual>
    <collision>
      <origin rpy="0.0 0 0" xyz="0 0 0"/>
      <geometry>
        <sphere radius="0.01"/>
      </geometry>
    </collision>
    <inertial>
      <mass value="0.01"/>
      <inertia ixx="0.0001" ixy="0.0" ixz="0.0" iyy="0.00001" iyz="0.0" izz="0.00001"/>
    </inertial>
  </link>

  <joint name="contact_front_rightL" type="fixed">
    <axis xyz="0 0 0"/>
    <parent link="lower_leg_front_rightL_link"/>
    <child link="contact_front_rightL_link"/>
    <origin rpy="0 0 0" xyz="0.0 0.0 0.213"/>
  </joint>
  <link name="contact_front_rightL_link">
    <contact>
        <stiffness value="10000"/>
        <damping value="10"/>
        <lateral_friction value="1"/>
    </contact>
    <visual>
      <origin rpy="0.0 0 0" xyz="0 0 0"/>
      <geometry>
        <sphere radius="0.01"/>
      </geometry>
      <material name="red">
        <color rgba="0.0 0.0 0.0 1"/>
      </material>
    </visual>
    <collision>
      <origin rpy="0.0 0 0" xyz="0 0 0"/>
      <geometry>
        <sphere radius="0.01"/>
      </geometry>
    </collision>
    <inertial>
      <mass value="0.01"/>
      <inertia ixx="0.0001" ixy="0.0" ixz="0.0" iyy="0.00001" iyz="0.0" izz="0.00001"/>
    </inertial>
  </link>
 
</robot>
